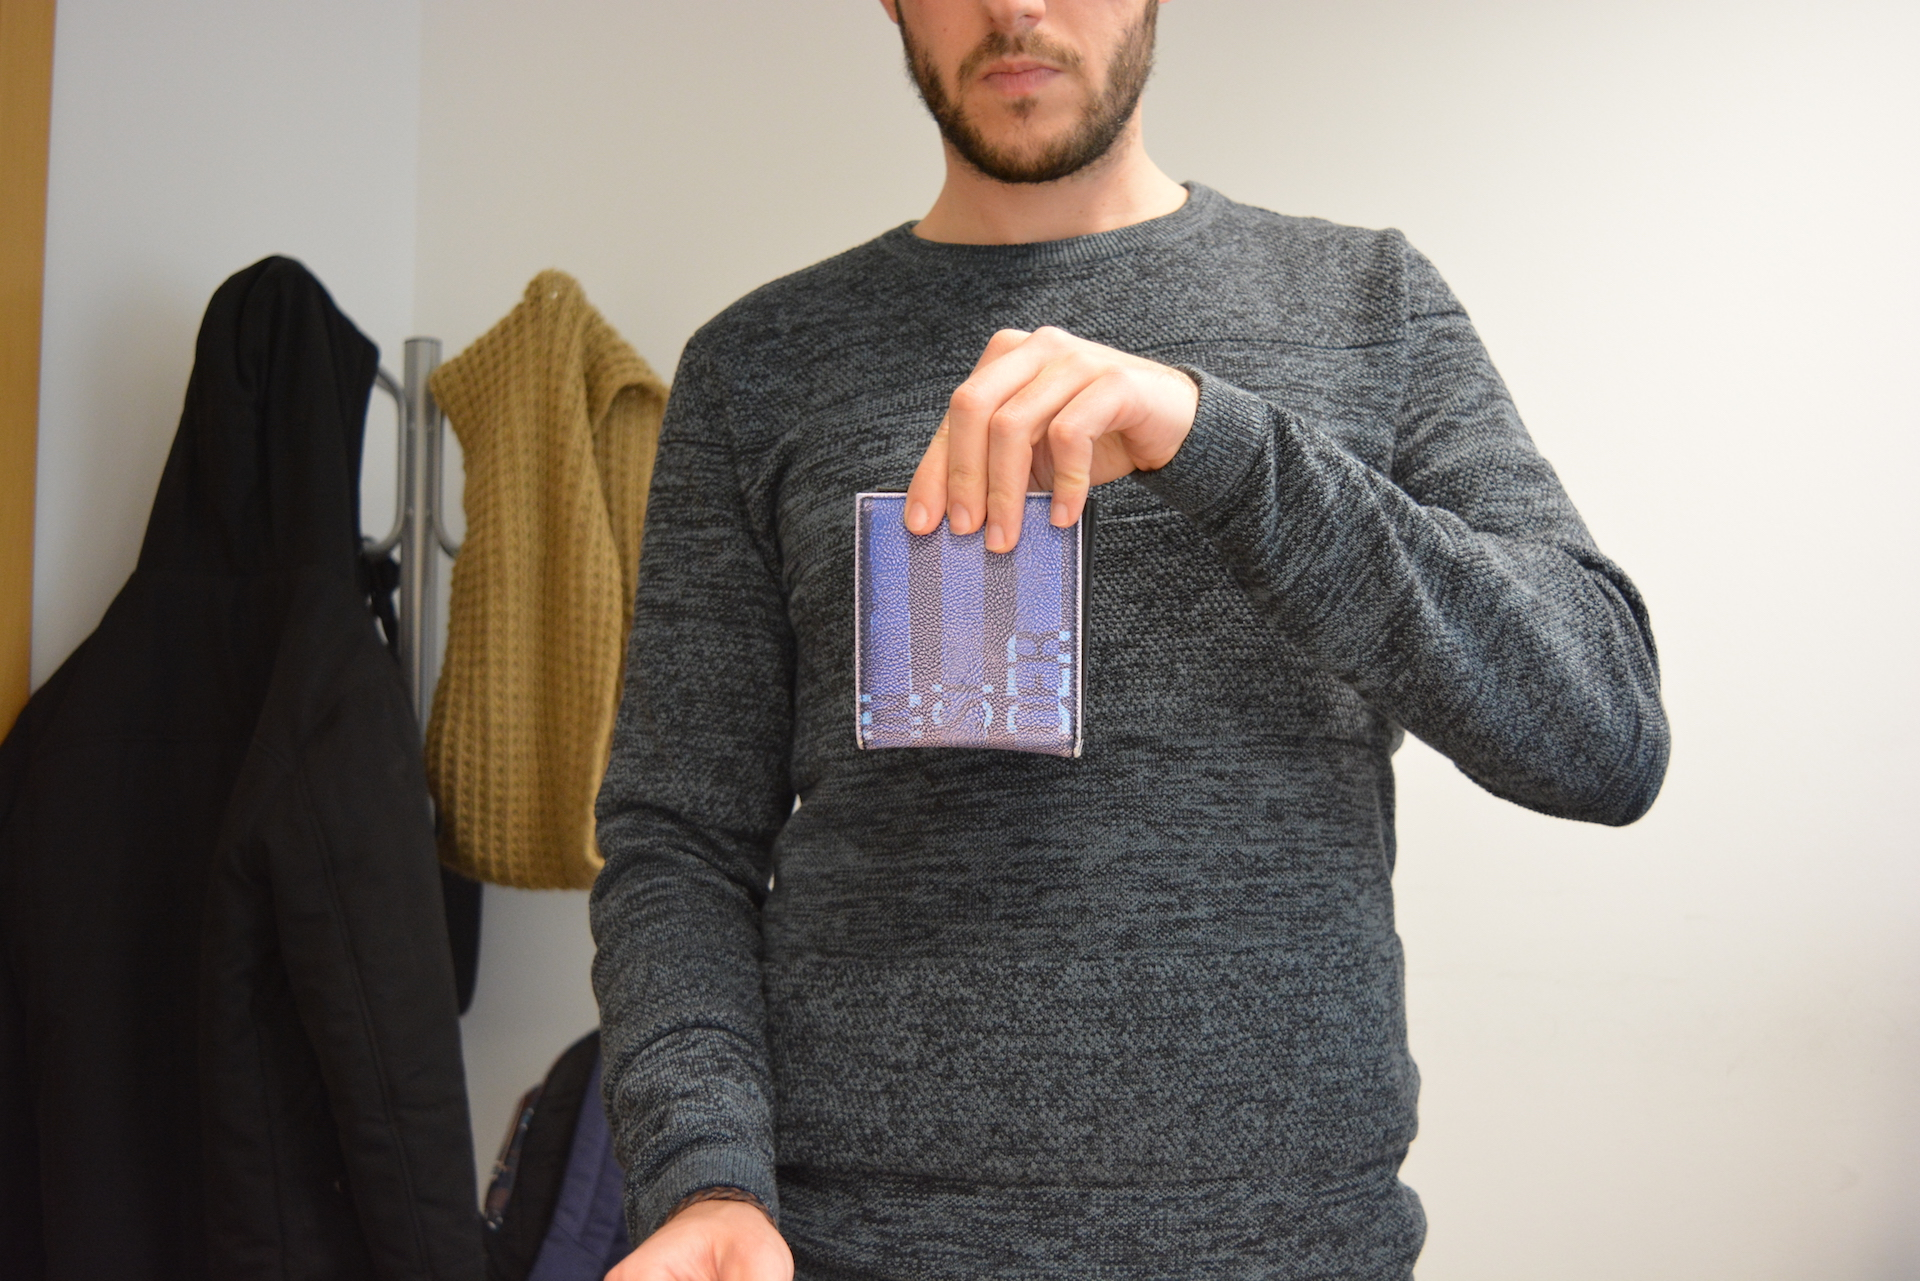monedero: (852, 489, 1101, 761)
